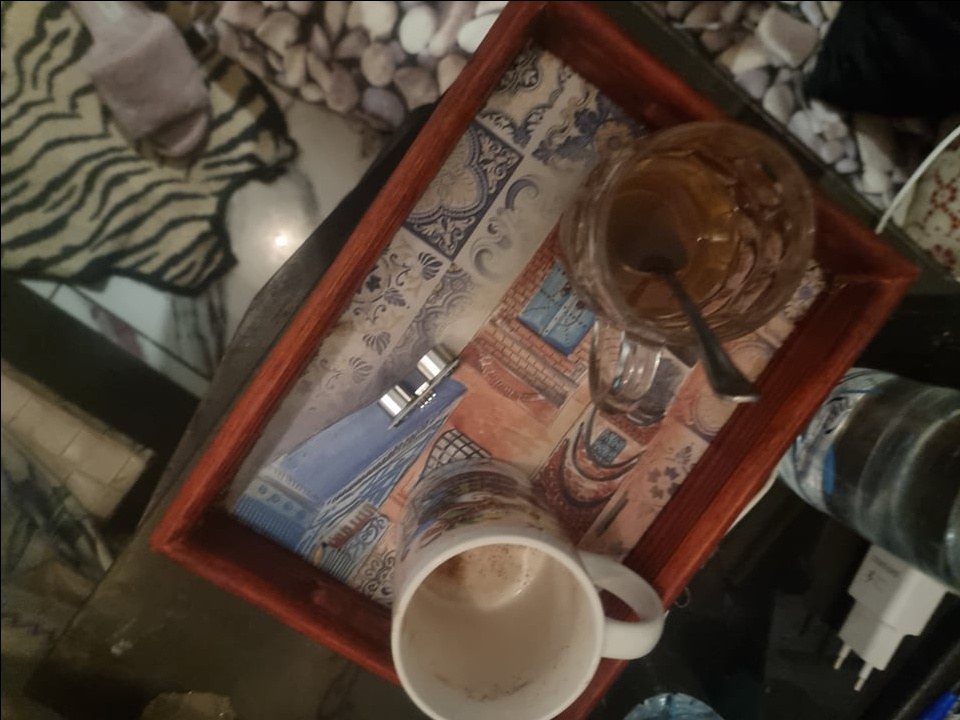SENSOR: (372, 337, 462, 429)
